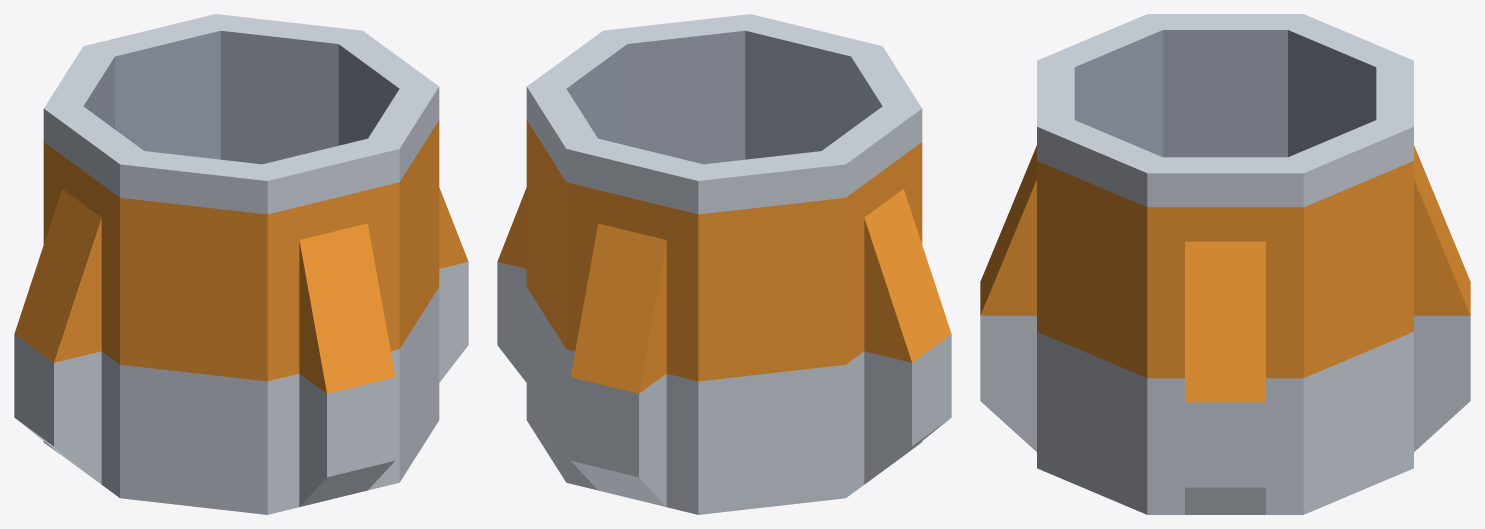
File: rocket_sidesB.fbx
3 renders of one model, left to right at view 1: azimuth 30°, elevation 25°; view 2: azimuth 150°, elevation 25°; view 3: azimuth 270°, elevation 25°, orthographic. The views are drawn at different scales.
Parts seen in each view (by area): view 1: rocket_sidesB; view 2: rocket_sidesB; view 3: rocket_sidesB.
Boxes of the visible parts, x1,y1,x2,y2 form: rocket_sidesB: (14, 14, 468, 514); rocket_sidesB: (497, 14, 951, 514); rocket_sidesB: (980, 14, 1470, 514).
Size of the model in its own units: 13 by 10 by 13.
